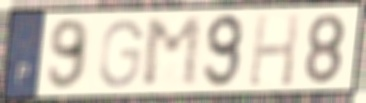8: (304, 11, 348, 86)
9: (43, 16, 94, 93), (199, 11, 245, 91)
G: (96, 17, 145, 91)
H: (246, 11, 303, 89)
M: (141, 14, 205, 91)
